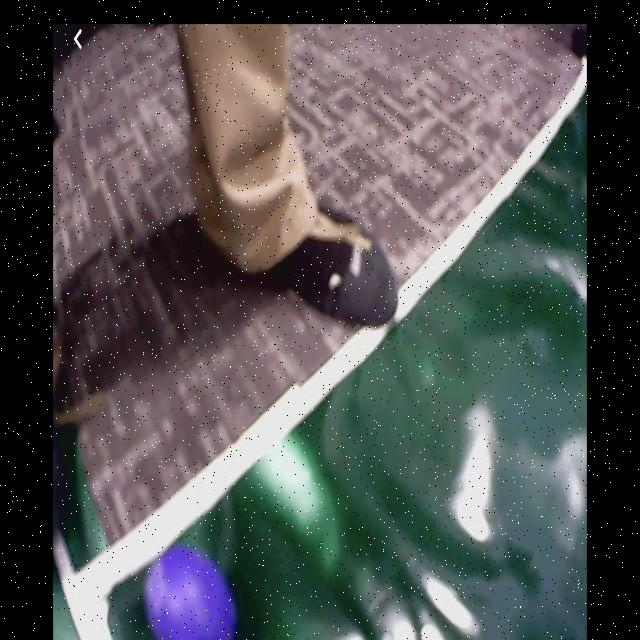ball: (143, 545, 240, 640)
